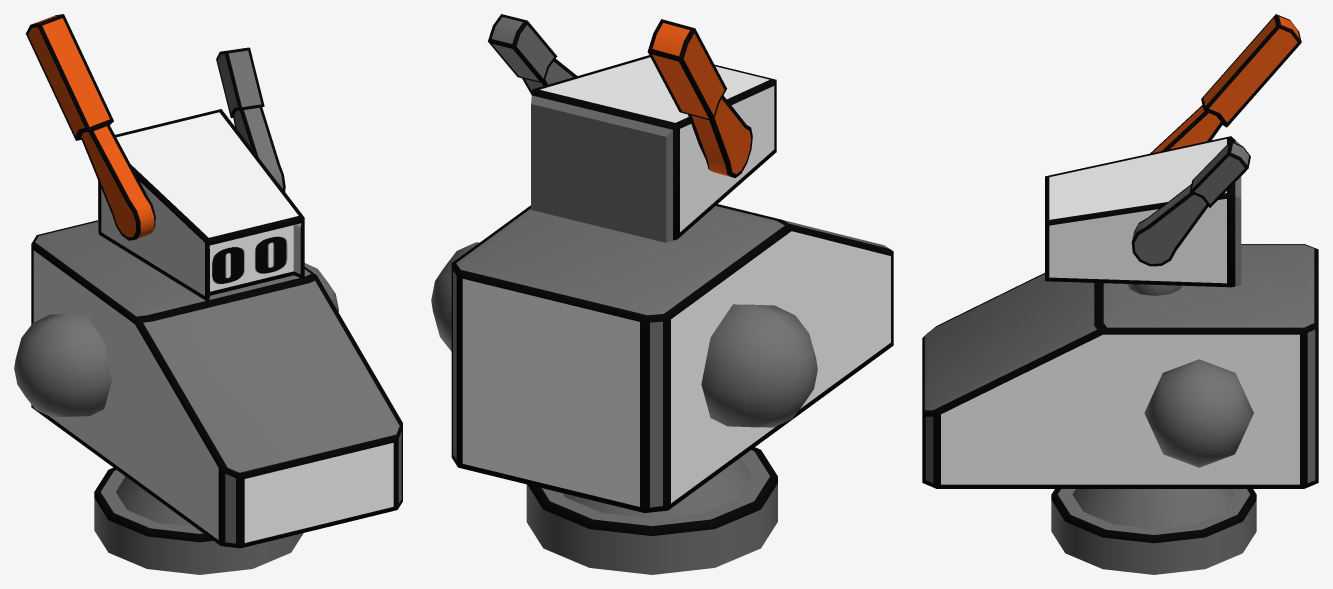
Rendered from Player Mech Debris Model.fbx.
3 views of the same model, side by side, from view 1: azimuth 30°, elevation 25°; view 2: azimuth 150°, elevation 25°; view 3: azimuth 270°, elevation 25° (orthographic). The views are drawn at different scales.
Parts seen in each view (by area): view 1: Mech Torso Debris.007, Mech Torso Debris.002, Mech Torso Debris, Mech Torso Debris.004, Mech Torso Debris.006, Mech Torso Debris.003; view 2: Mech Torso Debris.007, Mech Torso Debris.002, Mech Torso Debris, Mech Torso Debris.006, Mech Torso Debris.004, Mech Torso Debris.003, Mech Torso Debris.005; view 3: Mech Torso Debris.007, Mech Torso Debris.002, Mech Torso Debris, Mech Torso Debris.005, Mech Torso Debris.004, Mech Torso Debris.003.
Boxes of the visible parts, left/top/right/bottom form: Mech Torso Debris.007: left=31, top=220, right=402, bottom=548; Mech Torso Debris.002: left=98, top=109, right=304, bottom=301; Mech Torso Debris: left=94, top=467, right=303, bottom=574; Mech Torso Debris.004: left=25, top=14, right=155, bottom=240; Mech Torso Debris.006: left=14, top=313, right=111, bottom=416; Mech Torso Debris.003: left=216, top=47, right=285, bottom=191; Mech Torso Debris.007: left=451, top=204, right=893, bottom=512; Mech Torso Debris.002: left=531, top=55, right=776, bottom=242; Mech Torso Debris: left=526, top=447, right=777, bottom=574; Mech Torso Debris.006: left=701, top=304, right=817, bottom=427; Mech Torso Debris.004: left=647, top=19, right=752, bottom=178; Mech Torso Debris.003: left=488, top=14, right=577, bottom=94; Mech Torso Debris.005: left=431, top=242, right=479, bottom=351; Mech Torso Debris.007: left=922, top=244, right=1318, bottom=488; Mech Torso Debris.002: left=1045, top=136, right=1241, bottom=287; Mech Torso Debris: left=1051, top=489, right=1256, bottom=574; Mech Torso Debris.005: left=1144, top=359, right=1253, bottom=467; Mech Torso Debris.004: left=1150, top=14, right=1301, bottom=153; Mech Torso Debris.003: left=1131, top=141, right=1250, bottom=266.
Bounding box in the file's own units: 1.35 × 1.54 × 2.03.
